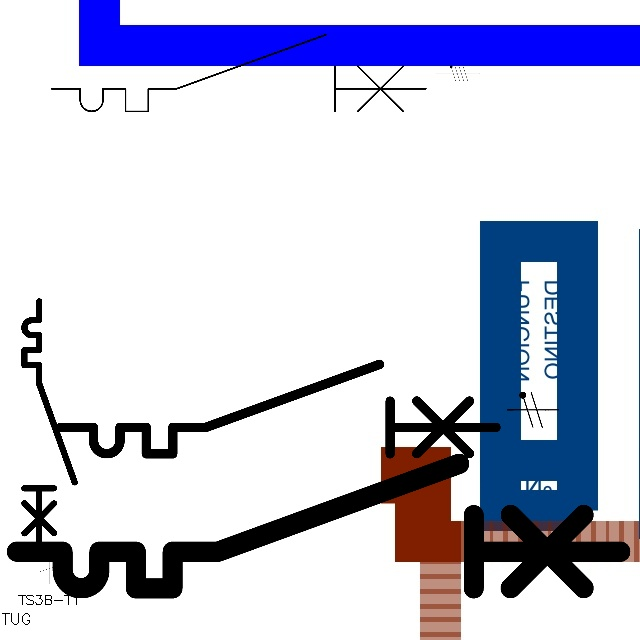interruptor_termomagnetico: (1, 448, 636, 604), (49, 353, 507, 465), (42, 25, 435, 121), (18, 295, 81, 555)
